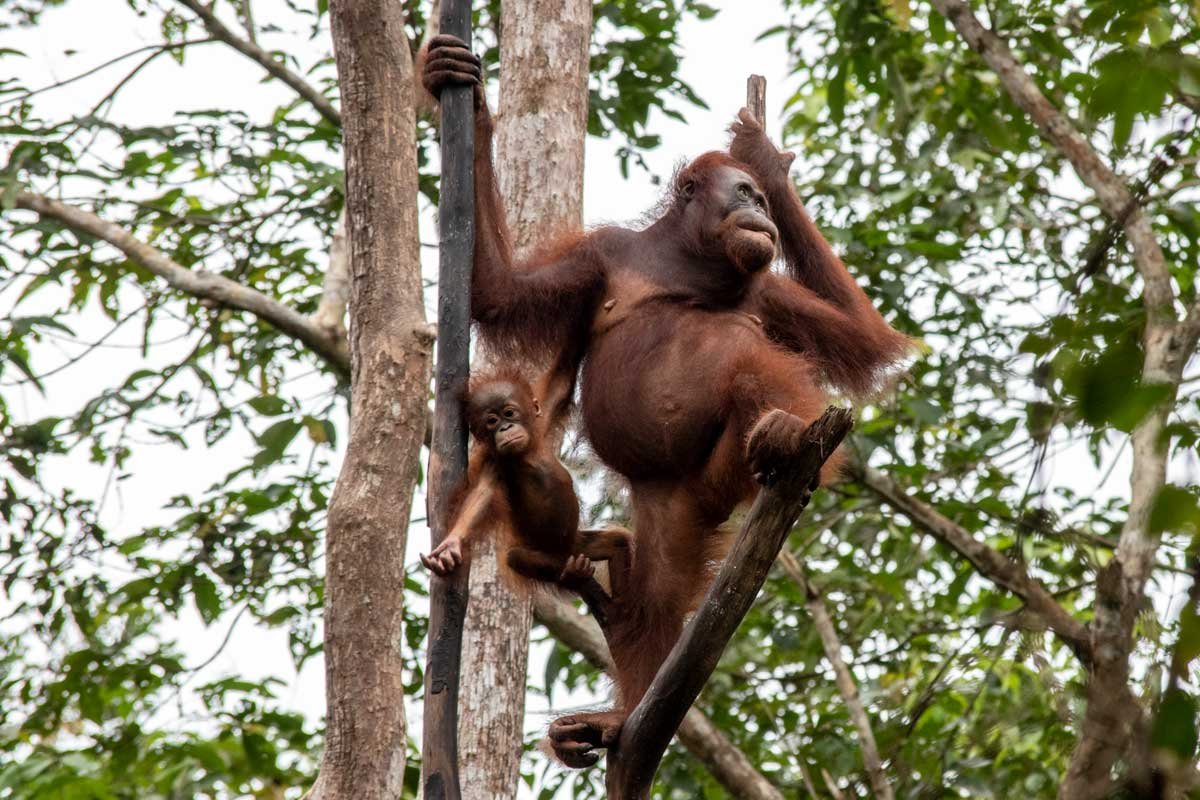Orangutan: (538, 107, 863, 550), (430, 333, 651, 654)
